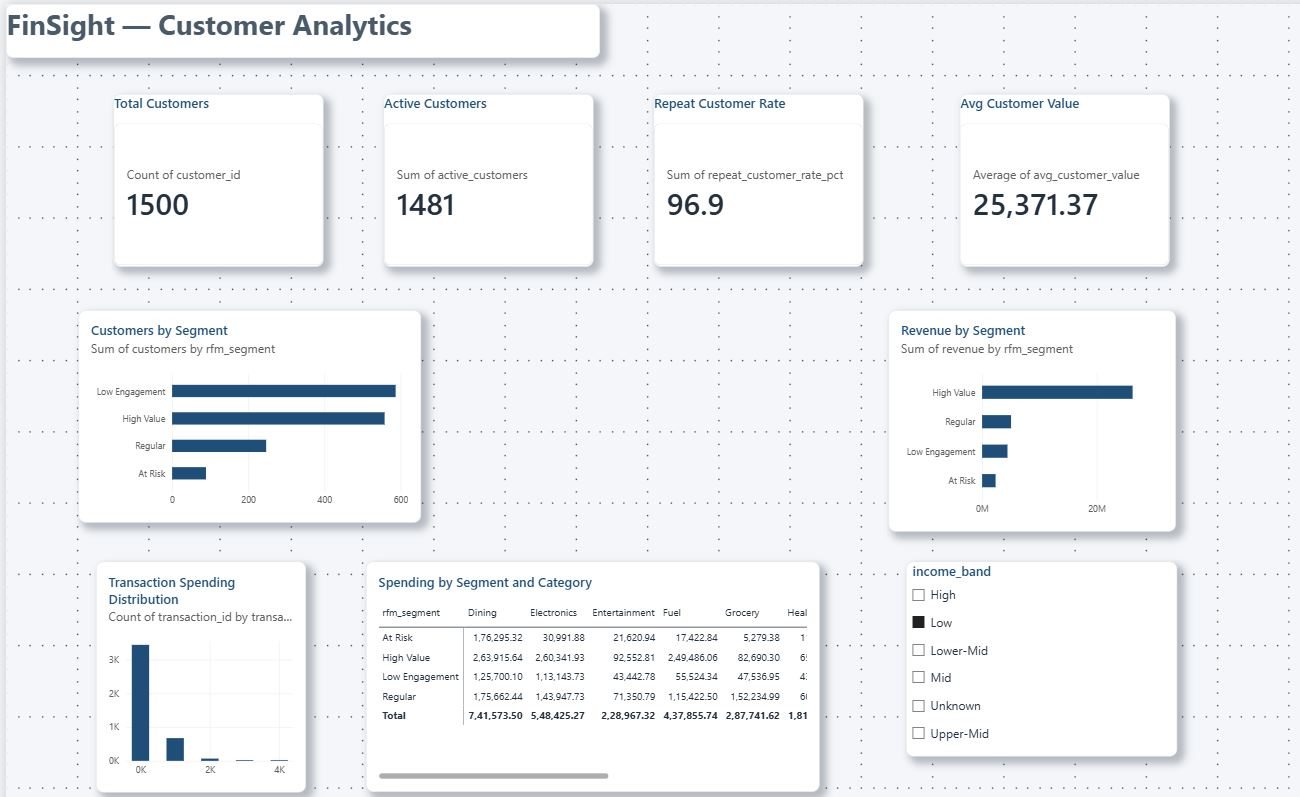

This screenshot's page, from the dashboard's own definition file:
{"tool":"powerbi","page":{"name":"Customer Analytics","canvas":[1920,1080],"ordinal":1},"visuals":[{"type":"cardVisual","title":"Active Customers","fields":{"Data":["Sum(kpi_summary.active_customers)"]},"box":[504,120,280,230],"z":0},{"type":"cardVisual","title":"Repeat Customer Rate","fields":{"Data":["Sum(kpi_summary.repeat_customer_rate_pct)"]},"box":[864,120,280,230],"z":1000},{"type":"cardVisual","title":"Avg Customer Value","fields":{"Data":["Avg(rfm_summary.avg_customer_value)"]},"box":[1272,120,280,230],"z":2000},{"type":"cardVisual","title":"Total Customers","fields":{"Data":["CountNonNull(dim_customers.customer_id)"]},"box":[144,120,280,230],"z":3000},{"type":"clusteredBarChart","title":"Customers by Segment","fields":{"Category":["rfm_summary.rfm_segment"],"Y":["Sum(rfm_summary.customers)"]},"box":[96,408,456.7,283.3],"z":4000},{"type":"clusteredBarChart","title":"Revenue by Segment","fields":{"Category":["rfm_summary.rfm_segment"],"Y":["Sum(rfm_summary.revenue)"]},"box":[1176,408,383.3,295],"z":5000},{"type":"pivotTable","title":"Spending by Segment and Category","fields":{"Columns":["fact_transactions.category"],"Rows":["fact_transactions.rfm_segment"],"Values":["Sum(fact_transactions.transaction_amount)"]},"box":[480,744,605,307.5],"z":6000},{"type":"clusteredColumnChart","title":"Transaction Spending Distribution","fields":{"Category":["fact_transactions.transaction_amount (bins)"],"Y":["CountNonNull(fact_transactions.transaction_id)"]},"box":[120,744,280,308],"z":7000},{"type":"slicer","fields":{"Values":["fact_transactions.income_band"]},"box":[1200,744,361.7,260],"z":8000},{"type":"textbox","box":[0,0,792,72],"z":8001}]}

Visuals, with their boxes on the page's 1920x1080 design canvas (x1, y1, x2, y2). These are canvas units, not pixel positions in the 1300x797 screenshot, which may show the page scaled, cropped or inside an application window:
"Active Customers" cardVisual: pyautogui.locateOnScreen(504, 120, 784, 350)
"Repeat Customer Rate" cardVisual: pyautogui.locateOnScreen(864, 120, 1144, 350)
"Avg Customer Value" cardVisual: pyautogui.locateOnScreen(1272, 120, 1552, 350)
"Total Customers" cardVisual: pyautogui.locateOnScreen(144, 120, 424, 350)
"Customers by Segment" clusteredBarChart: pyautogui.locateOnScreen(96, 408, 553, 691)
"Revenue by Segment" clusteredBarChart: pyautogui.locateOnScreen(1176, 408, 1559, 703)
"Spending by Segment and Category" pivotTable: pyautogui.locateOnScreen(480, 744, 1085, 1052)
"Transaction Spending Distribution" clusteredColumnChart: pyautogui.locateOnScreen(120, 744, 400, 1052)
slicer - fact_transactions.income_band: pyautogui.locateOnScreen(1200, 744, 1562, 1004)
textbox: pyautogui.locateOnScreen(0, 0, 792, 72)
